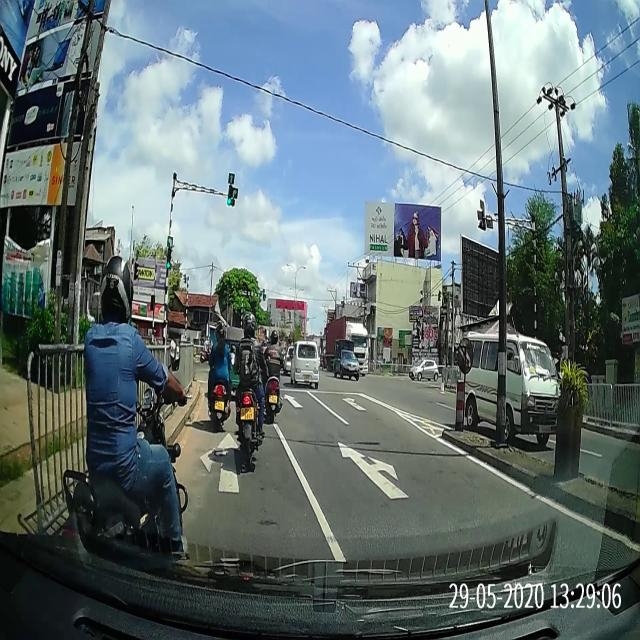forward_right: (279, 434, 539, 520), (288, 448, 529, 511), (282, 443, 518, 503), (282, 441, 488, 475)
